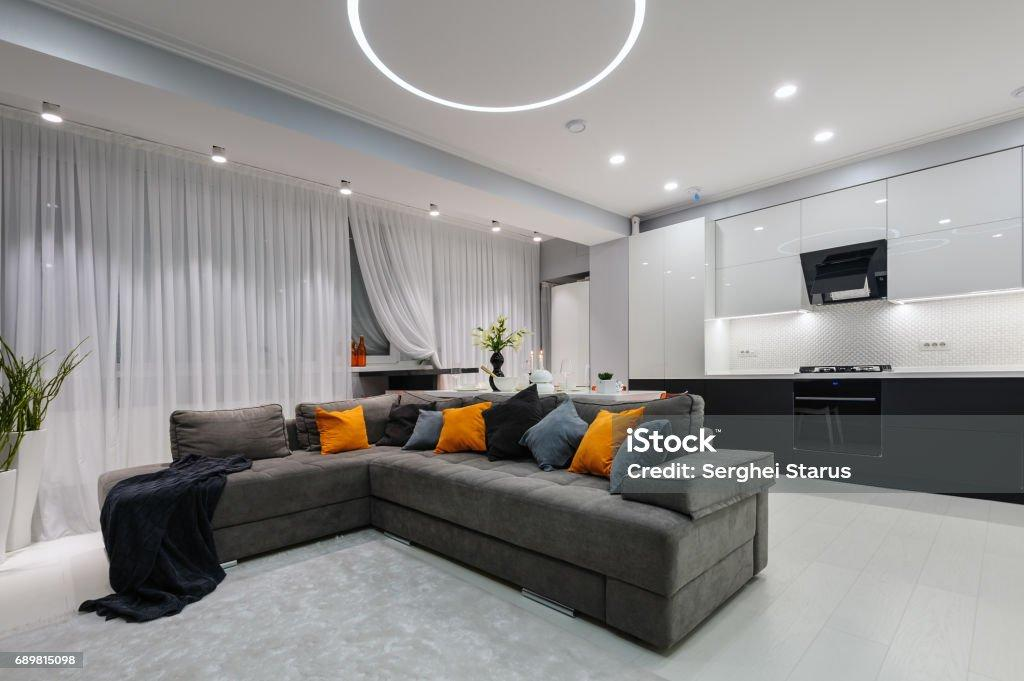light: (33, 94, 64, 132), (765, 77, 804, 103), (604, 146, 636, 167), (333, 170, 356, 199), (810, 124, 837, 147), (560, 117, 591, 135), (212, 143, 230, 170), (659, 174, 682, 195), (489, 215, 507, 237), (1010, 79, 1024, 101), (426, 199, 442, 218), (530, 227, 545, 247)
sofa: (96, 382, 787, 657)
